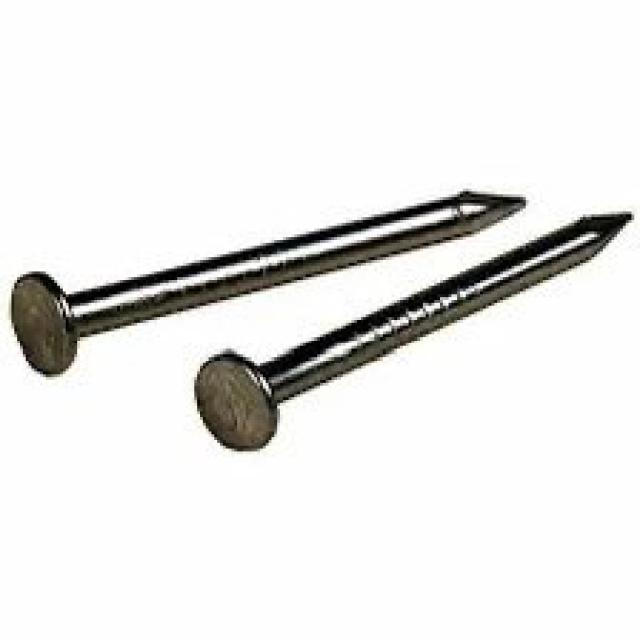3x10 nail: (0, 174, 631, 468)
